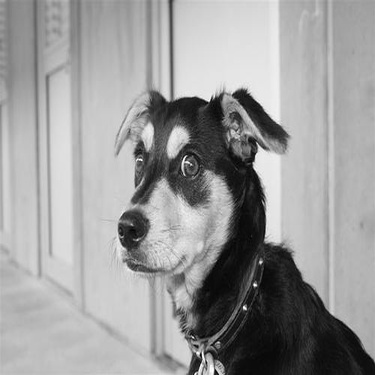dog: (101, 74, 370, 373)
